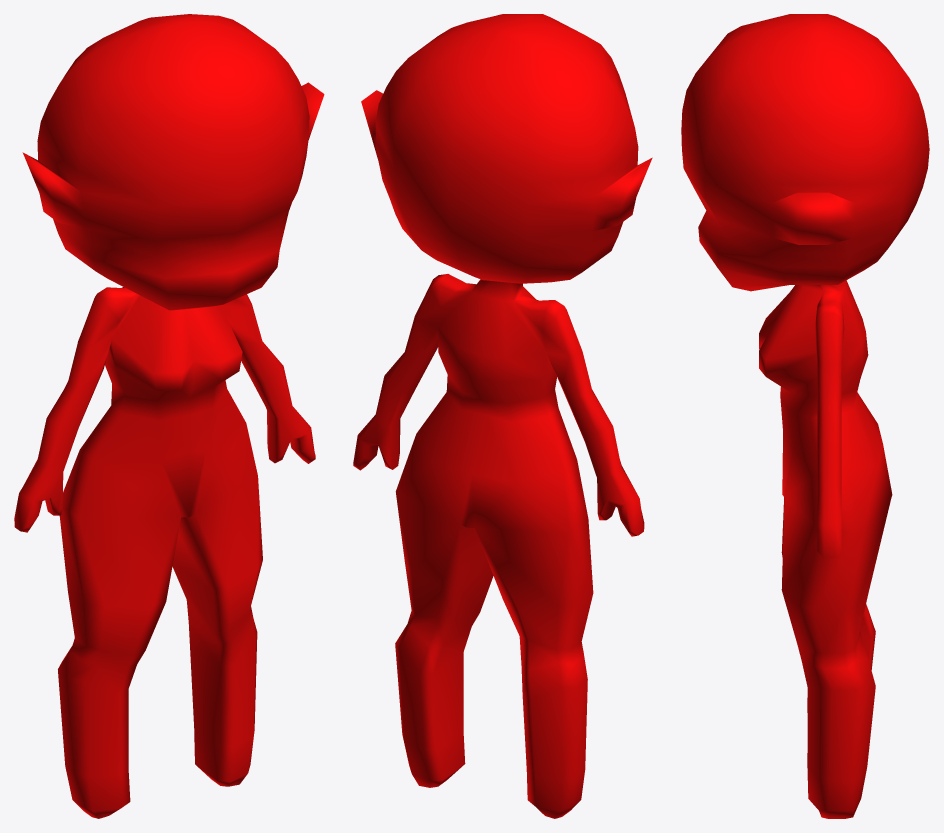
The model's file is enemy.fbx.
3 views of the same model, side by side, from view 1: azimuth 30°, elevation 25°; view 2: azimuth 150°, elevation 25°; view 3: azimuth 270°, elevation 25° (orthographic). The views are drawn at different scales.
Visible parts, largest first — view 1: enemy1; view 2: enemy1; view 3: enemy1.
Boxes of the visible parts, x1=… form: enemy1: x1=14, y1=14, x2=324, y2=818; enemy1: x1=353, y1=14, x2=652, y2=818; enemy1: x1=681, y1=14, x2=929, y2=818.
Size of the model in its own units: 80.42 by 204 by 60.55.
